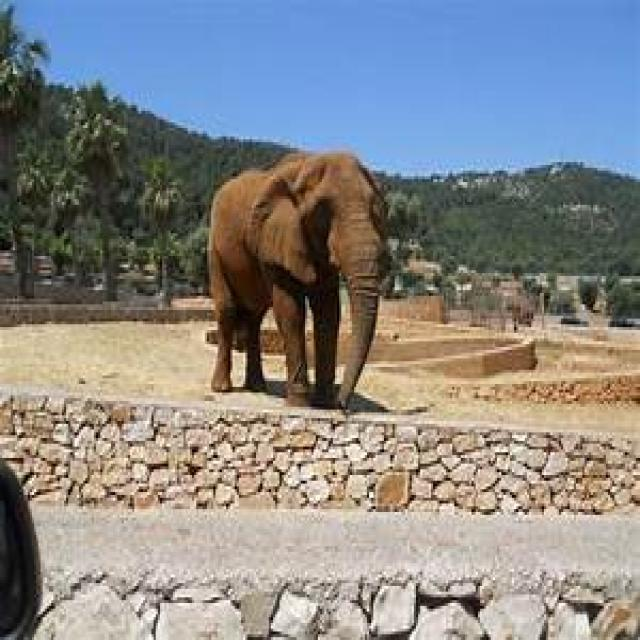elephant: (207, 151, 388, 410)
